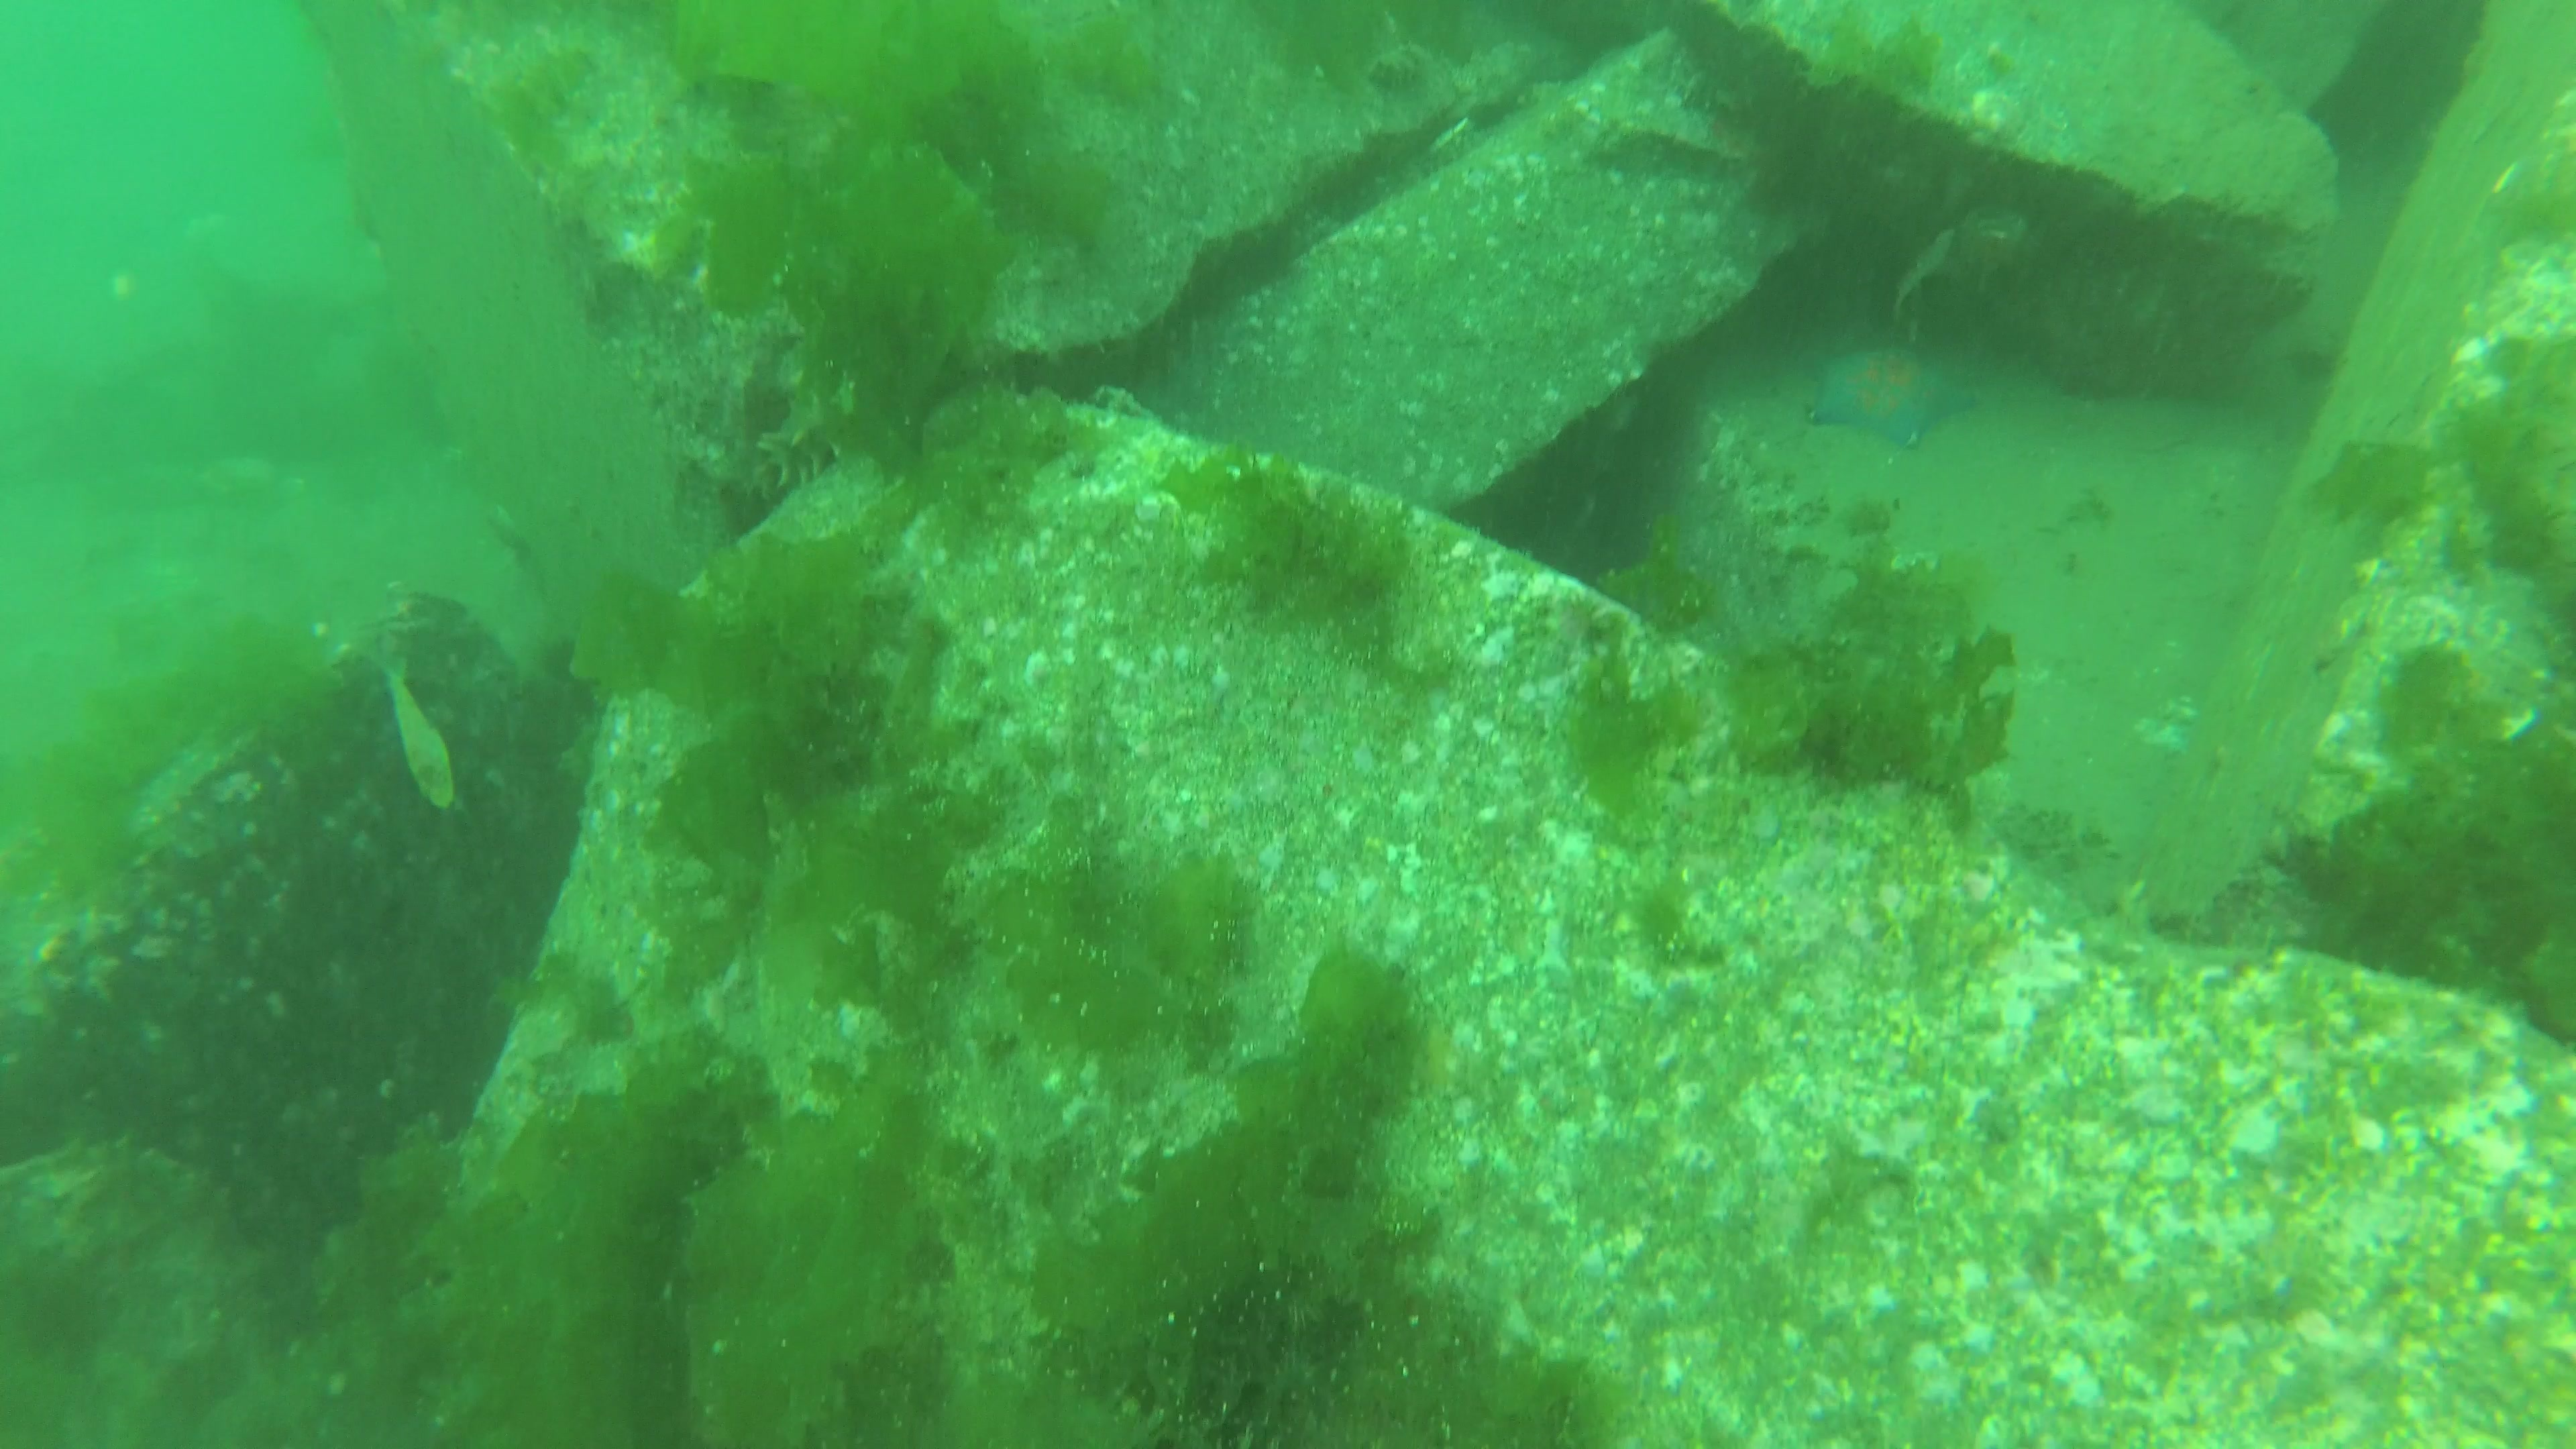echinus: (538, 639, 600, 717)
holothurian: (752, 403, 851, 490)
starfish: (1808, 347, 1985, 451)
